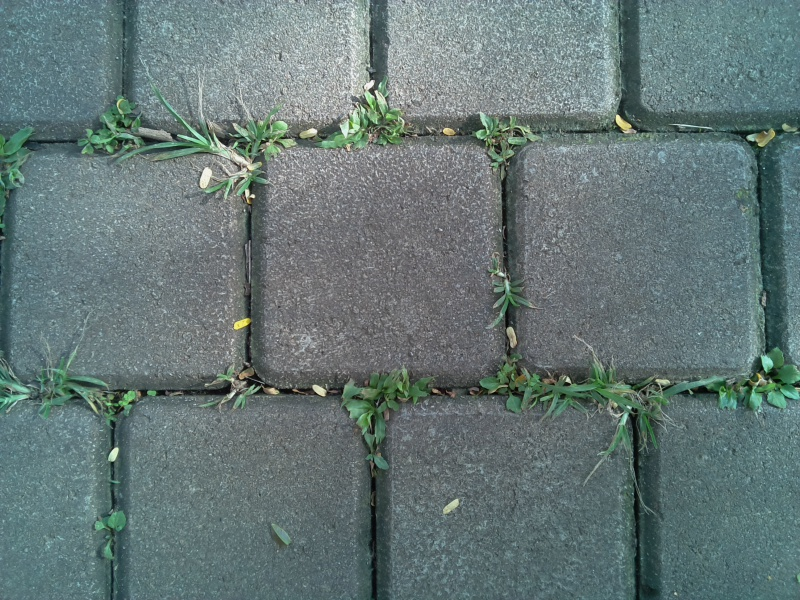Weed: (559, 358, 682, 480), (155, 90, 270, 202), (333, 363, 435, 472), (2, 344, 115, 418), (709, 344, 800, 417), (319, 90, 410, 153), (464, 109, 541, 177), (474, 354, 555, 416), (1, 119, 39, 249), (76, 96, 146, 163), (484, 257, 533, 325), (235, 110, 297, 161), (90, 385, 160, 425), (208, 362, 262, 411), (94, 508, 132, 564)
